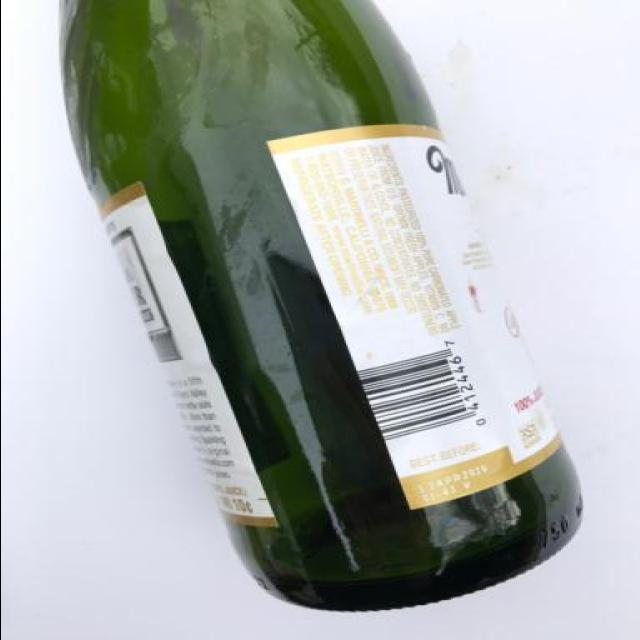Glass Bottle: (51, 0, 594, 614)
